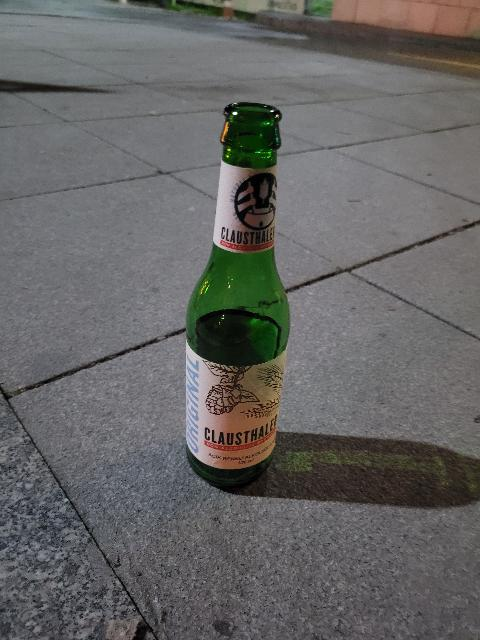Cam: (179, 78, 299, 495)
